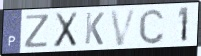1: (177, 5, 190, 44)
C: (138, 7, 166, 46)
K: (83, 11, 106, 47)
V: (109, 7, 139, 47)
X: (52, 11, 80, 50)
Z: (23, 13, 51, 50)
